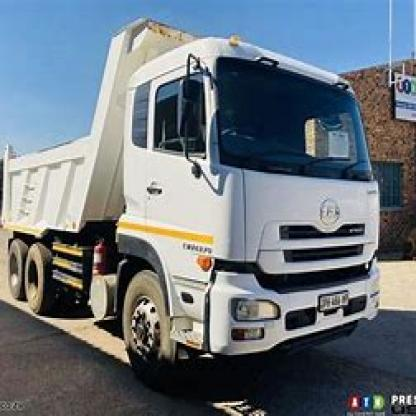dump_truck: (3, 9, 378, 386)
